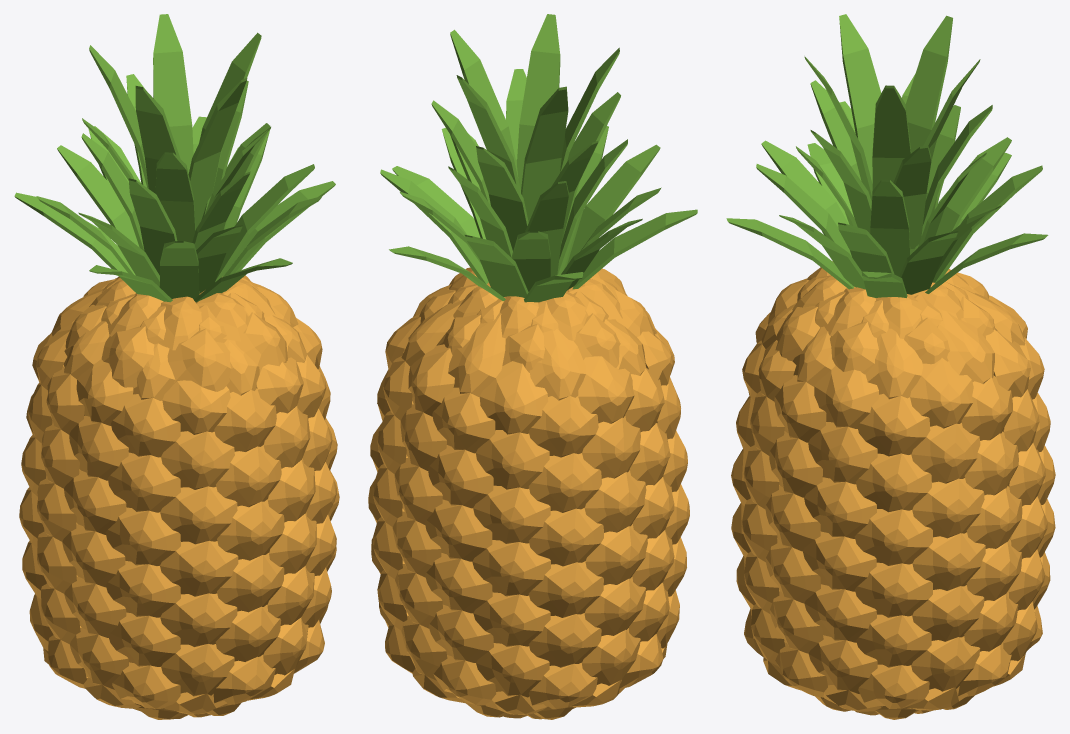
The model's file is pineapple.fbx.
3 views of the same model, side by side, from view 1: azimuth 30°, elevation 25°; view 2: azimuth 150°, elevation 25°; view 3: azimuth 270°, elevation 25° (orthographic).
Visible parts, largest first — view 1: pineapple; view 2: pineapple; view 3: pineapple.
Boxes of the visible parts, x1,y1,x2,y2 form: pineapple: (14, 14, 339, 719); pineapple: (368, 14, 697, 719); pineapple: (726, 14, 1055, 719).
Size of the model in its own units: 284 by 619 by 282.
